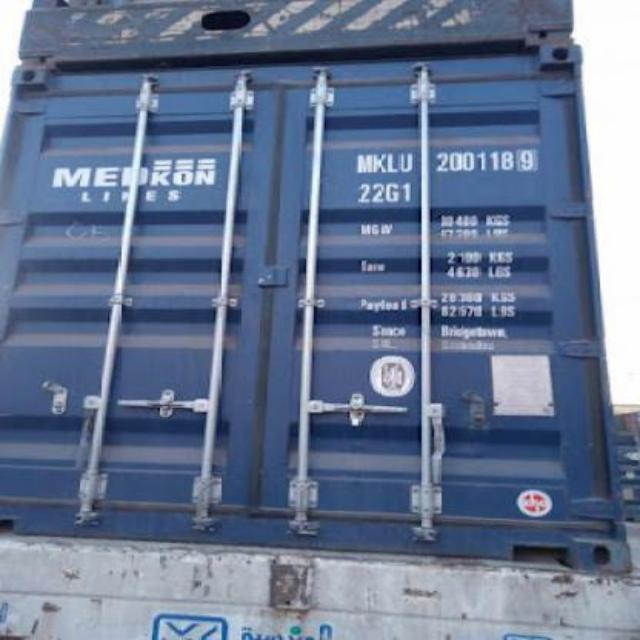0: (450, 150, 462, 170), (462, 152, 474, 172)
1: (490, 150, 502, 172), (476, 152, 488, 170)
2: (434, 152, 452, 172)
8: (500, 150, 516, 172)
9: (518, 150, 534, 170)
K: (372, 153, 390, 171)
L: (386, 152, 399, 172)
M: (356, 150, 374, 173)
U: (398, 152, 416, 172)
